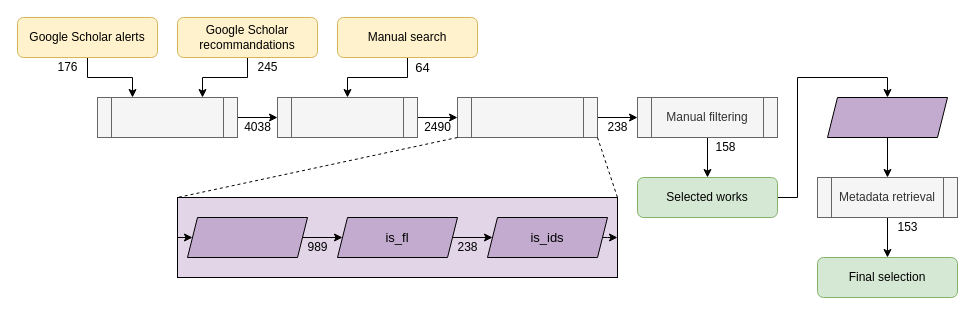
This 975x315 diagram has some shape labels left out. Here are the shapes that lost their labels. From the top down, the centre of each, then its label:
At (167,117): "Link extraction".
At (347,117): "Duplicate removal".
At (527,117): "Automated filtering".
At (887,117): "on_scopus".
At (247,237): "is_published".
